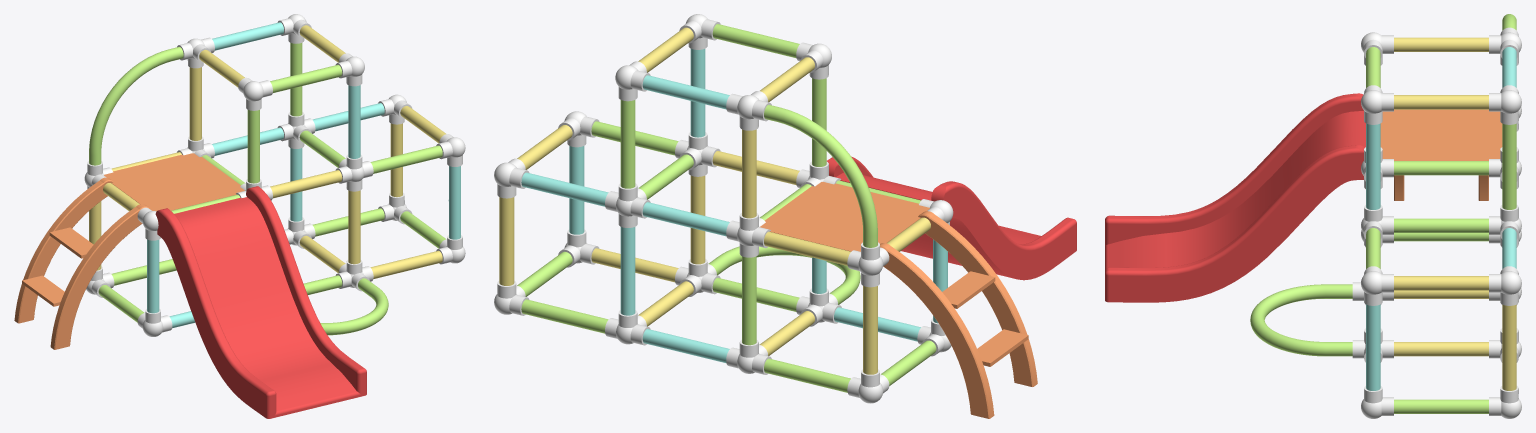
The model's file is 415_室内すべり台.glb.
3 views of the same model, side by side, from view 1: azimuth 30°, elevation 25°; view 2: azimuth 150°, elevation 25°; view 3: azimuth 270°, elevation 25° (orthographic). The views are drawn at different scales.
Parts seen in each view (by area): view 1: 415_室内すべり台; view 2: 415_室内すべり台; view 3: 415_室内すべり台.
Part boxes in pixels (x1,y1,x2,y2): 415_室内すべり台: [14, 14, 465, 418]; 415_室内すべり台: [494, 14, 1076, 418]; 415_室内すべり台: [1105, 14, 1521, 418].
Bounding box in the file's own units: 2.63 × 1.44 × 2.02.
